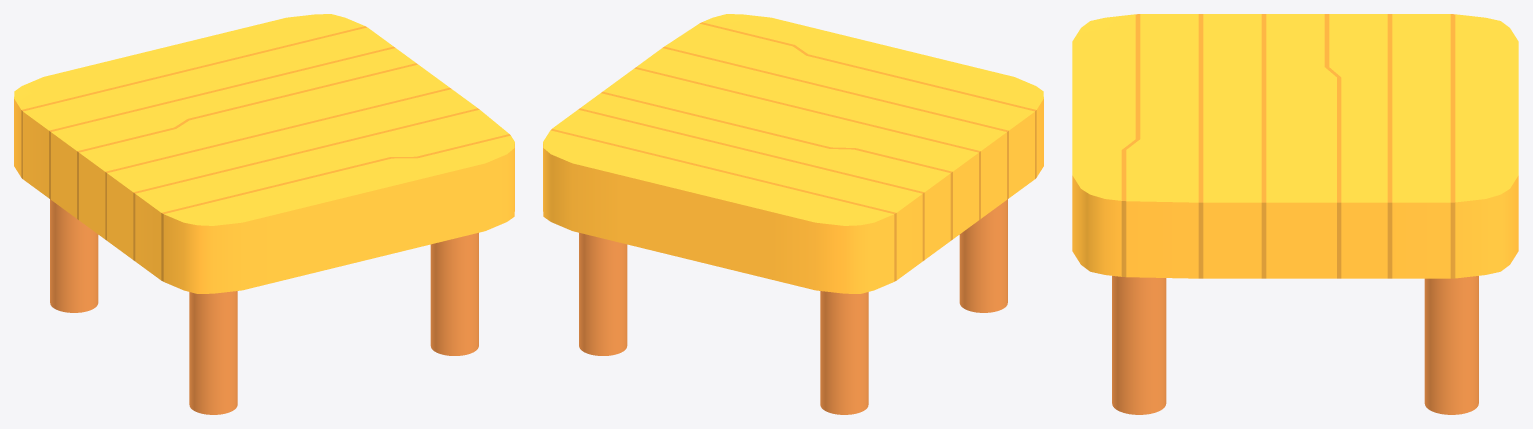
The model's file is Table.fbx.
3 renders of one model, left to right at view 1: azimuth 30°, elevation 25°; view 2: azimuth 150°, elevation 25°; view 3: azimuth 270°, elevation 25°, orthographic. The views are drawn at different scales.
Visible parts, largest first — view 1: Table; view 2: Table; view 3: Table.
Part boxes in pixels (box(x1,y1,x2,y2)): Table: box(14, 14, 514, 414); Table: box(543, 14, 1043, 414); Table: box(1072, 14, 1518, 414).
Size of the model in its own units: 150 by 85.11 by 150.
